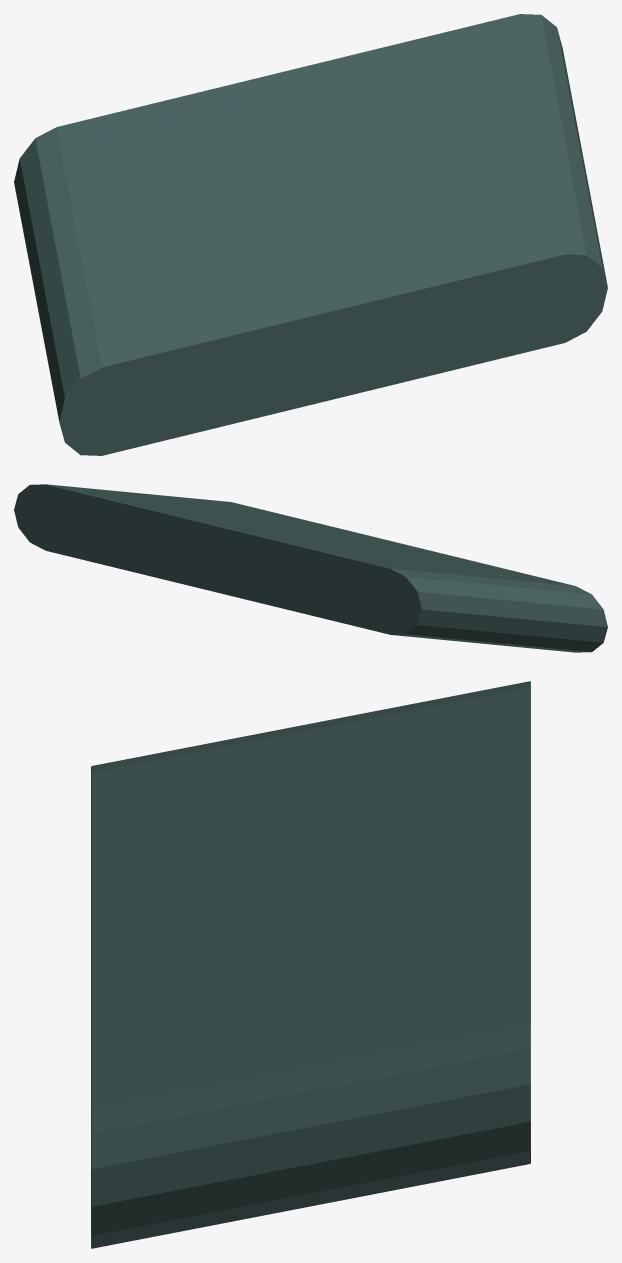
Rendered from OneWay.gltf.
3 views of the same model, one above another, from view 1: azimuth 30°, elevation 25°; view 2: azimuth 150°, elevation 25°; view 3: azimuth 270°, elevation 25° (orthographic). The views are drawn at different scales.
Parts seen in each view (by area): view 1: OneWay_baked; view 2: OneWay_baked; view 3: OneWay_baked.
Boxes of the visible parts, <box> form: OneWay_baked: <box>14,14,607,455</box>; OneWay_baked: <box>14,484,607,652</box>; OneWay_baked: <box>91,681,530,1248</box>.
Bounding box in the file's own units: 1.07 × 0.3074 × 0.42.
